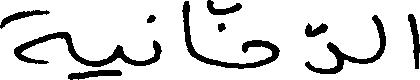X: (0, 5, 71, 79), (308, 18, 340, 78), (243, 35, 276, 73), (410, 9, 419, 73), (375, 10, 383, 65), (184, 0, 191, 60), (115, 40, 122, 79), (155, 12, 158, 66)
